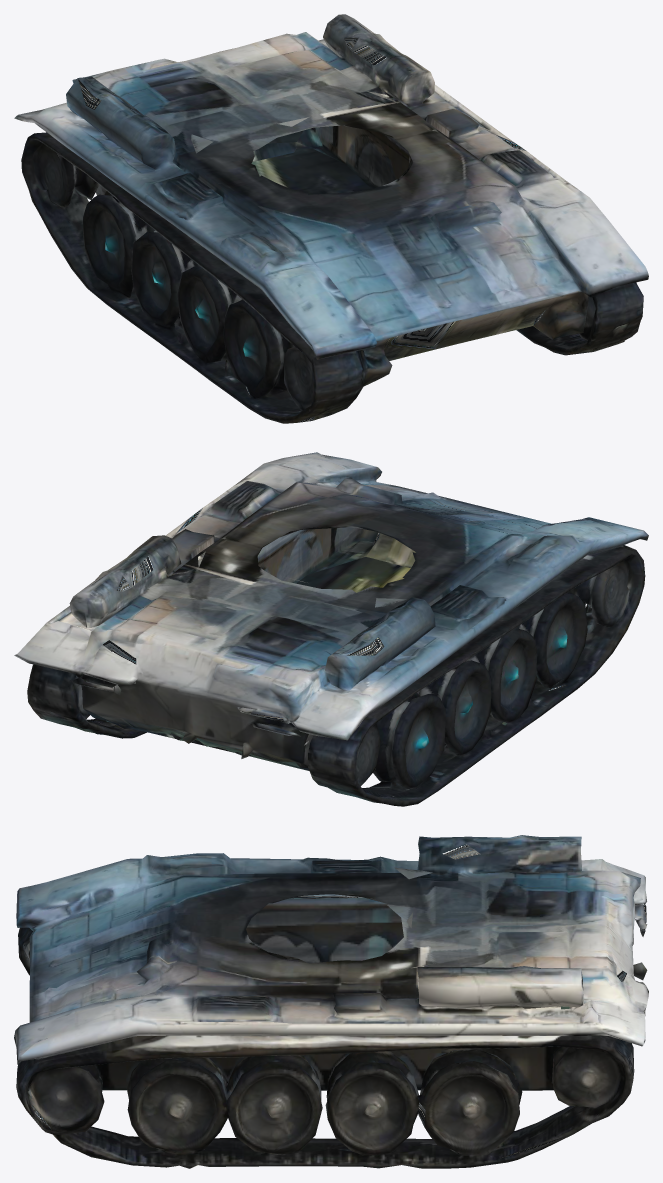
The model's file is tank.dae.
The picture shows the model from 3 angles, top to bottom: view 1: azimuth 30°, elevation 25°; view 2: azimuth 150°, elevation 25°; view 3: azimuth 270°, elevation 25°; orthographic projection. The views are drawn at different scales.
Parts seen in each view (by area): view 1: tank_01; view 2: tank_01; view 3: tank_01.
Part boxes in pixels (x1,y1,x2,y2): tank_01: (14, 14, 648, 423); tank_01: (14, 452, 648, 806); tank_01: (14, 835, 648, 1168).
Bounding box in the file's own units: 9.19 × 14.33 × 4.62.
